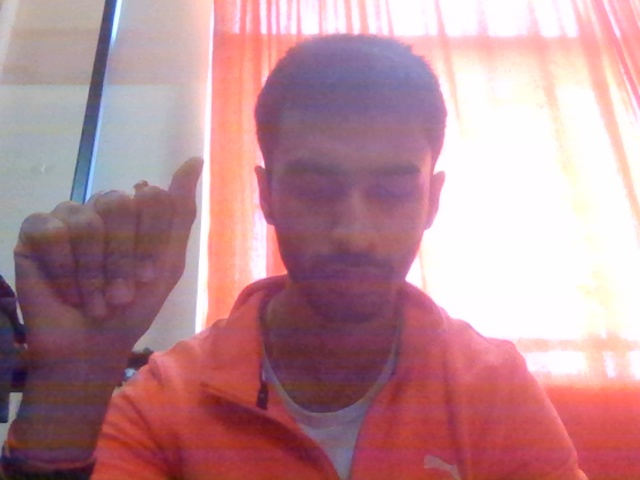A: (12, 153, 239, 409)
